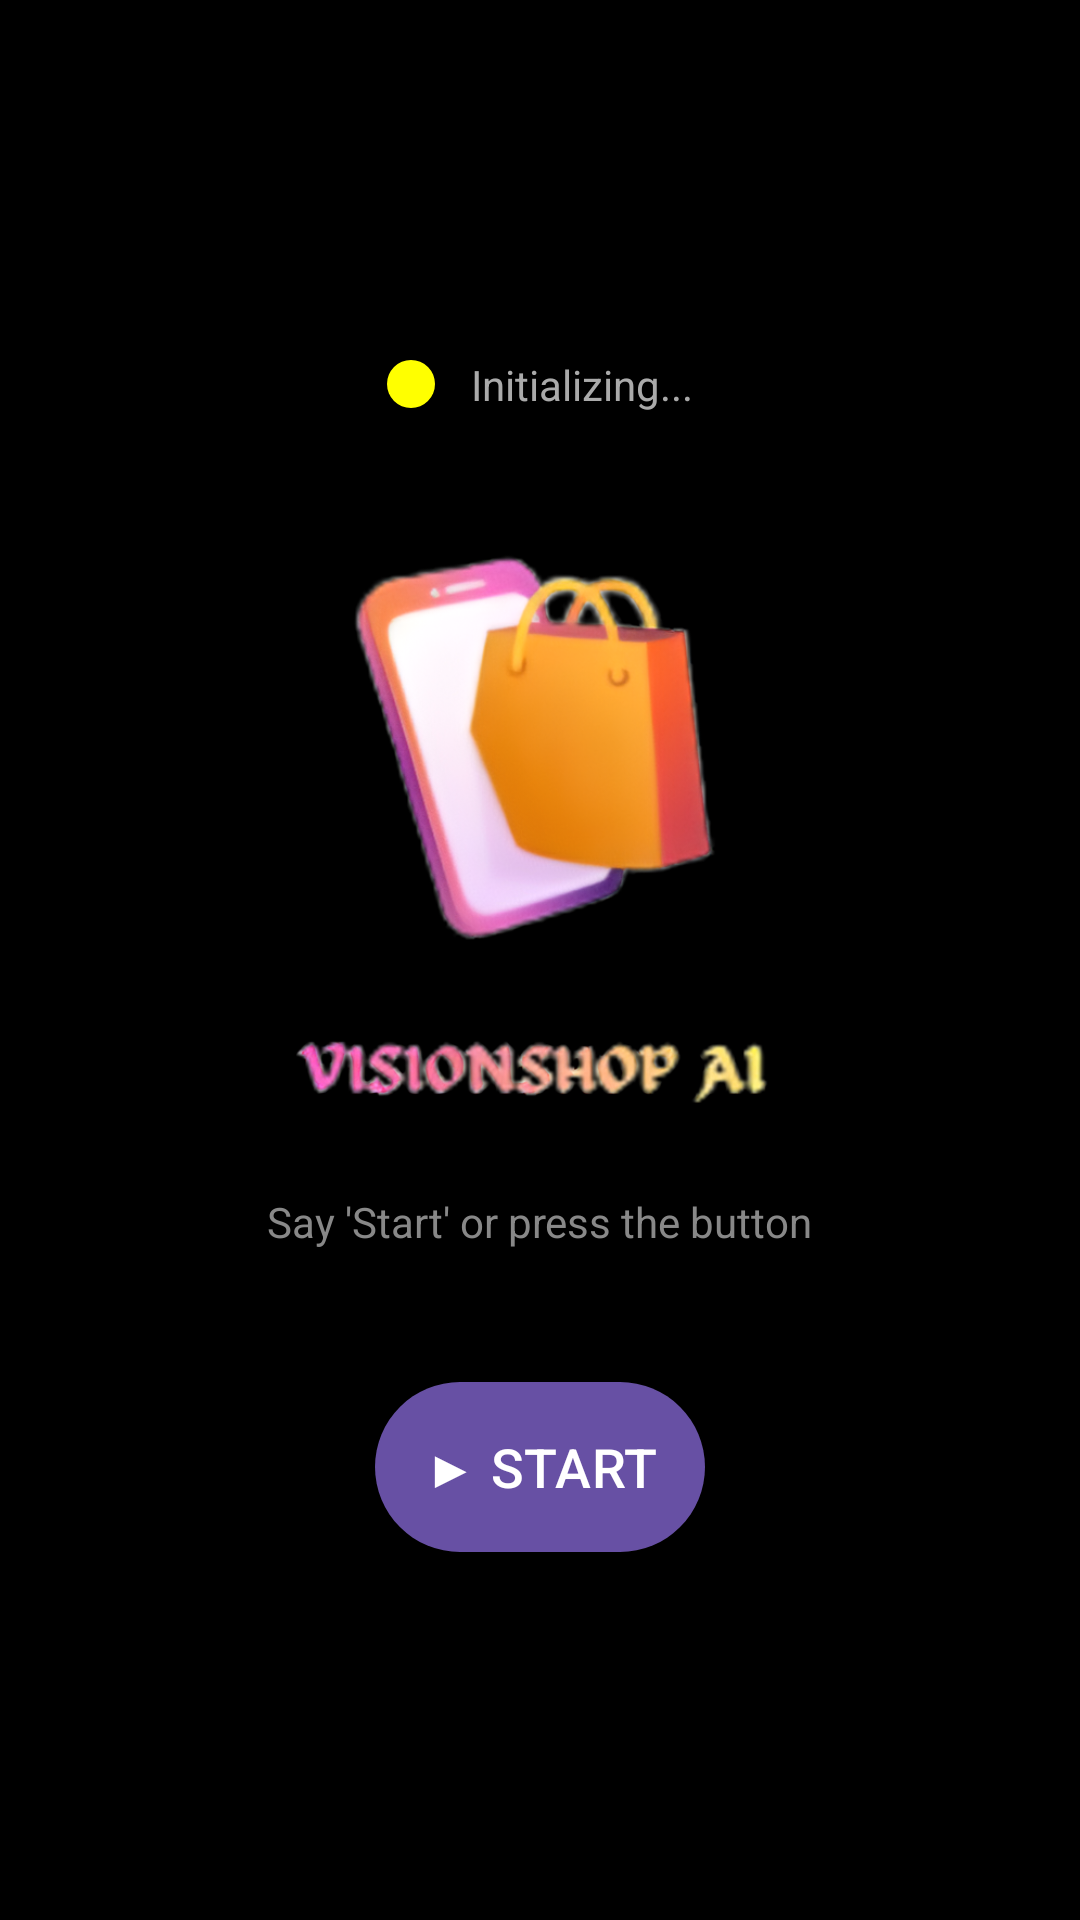

Icons on this 1080*1920 Android screen, each with the point to tap as (x=x, y=y):
status dot: (x=411, y=384)
